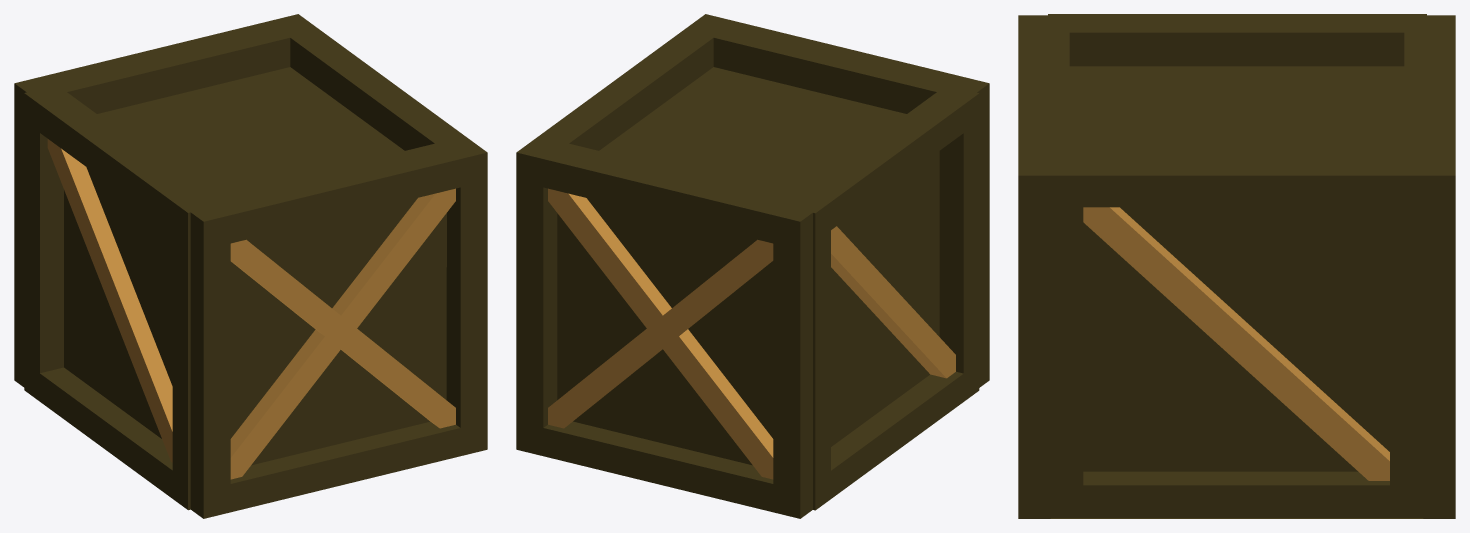
File: Cajita.fbx
3 renders of one model, left to right at view 1: azimuth 30°, elevation 25°; view 2: azimuth 150°, elevation 25°; view 3: azimuth 270°, elevation 25°, orthographic. The views are drawn at different scales.
Parts seen in each view (by area): view 1: Cajita; view 2: Cajita; view 3: Cajita.
Part boxes in pixels (<box>): Cajita: <box>14,14,487,518</box>; Cajita: <box>516,14,989,518</box>; Cajita: <box>1018,14,1455,518</box>.
Bounding box in the file's own units: 202 × 200 × 231.
